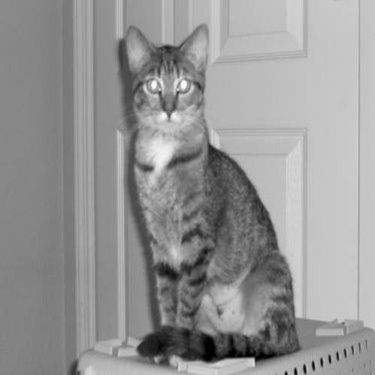cat: (123, 19, 300, 361)
